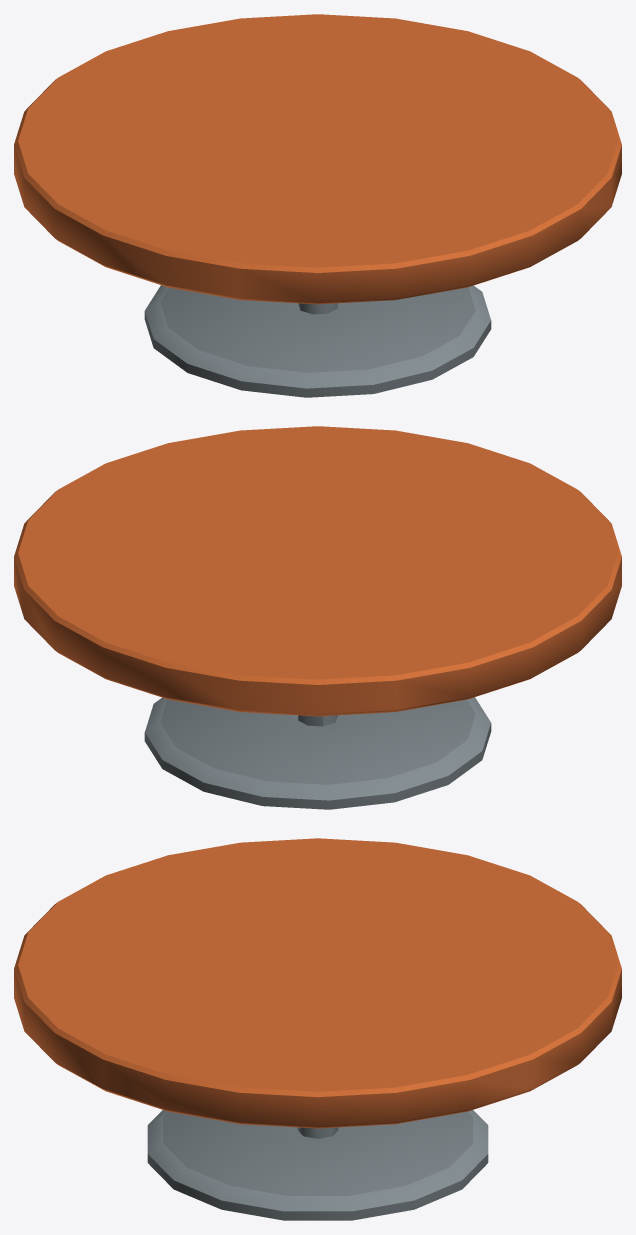
Rendered from table.glb.
The picture shows the model from 3 angles, top to bottom: view 1: azimuth 30°, elevation 25°; view 2: azimuth 150°, elevation 25°; view 3: azimuth 270°, elevation 25°; orthographic projection.
Parts seen in each view (by area): view 1: table_round_A; view 2: table_round_A; view 3: table_round_A.
Boxes of the visible parts, x1,y1,x2,y2 form: table_round_A: (14,14,621,397); table_round_A: (14,426,621,809); table_round_A: (14,838,621,1220).
Bounding box in the file's own units: 3 × 1 × 3.
Materials: 1 (1 with a texture image).
